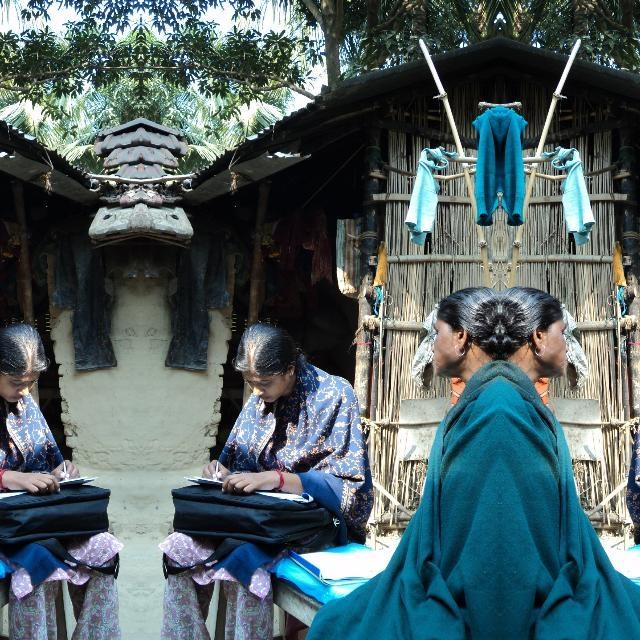person: (180, 318, 340, 640), (394, 279, 500, 636), (500, 279, 606, 636), (0, 318, 100, 640)
